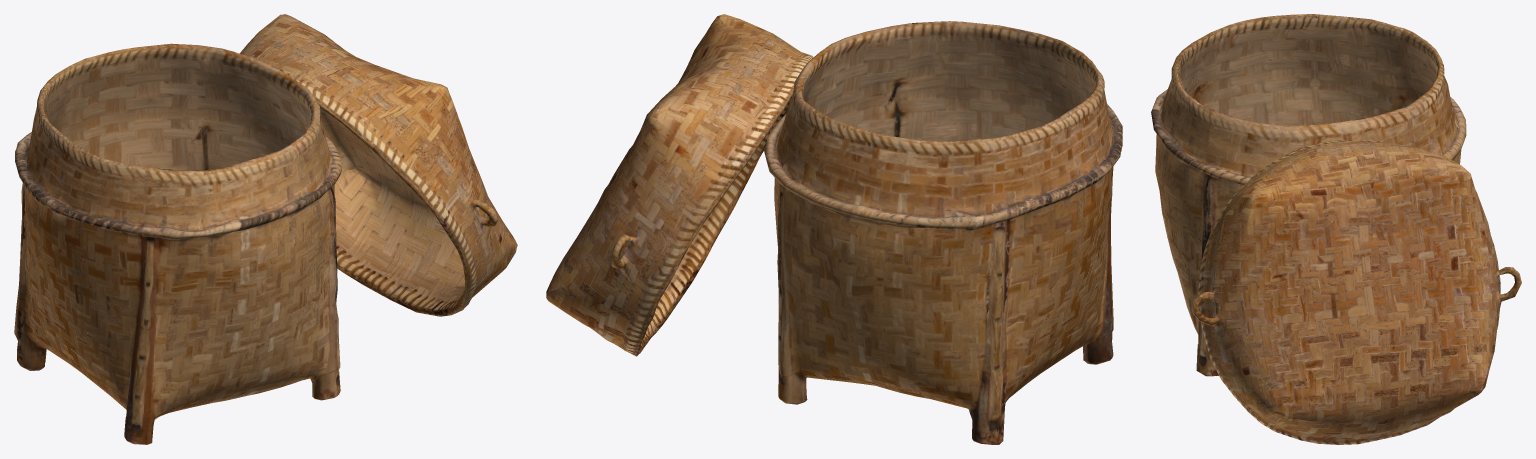
The model's file is cofo.glb.
3 renders of one model, left to right at view 1: azimuth 30°, elevation 25°; view 2: azimuth 150°, elevation 25°; view 3: azimuth 270°, elevation 25°, orthographic. The views are drawn at different scales.
Parts seen in each view (by area): view 1: cofo; view 2: cofo; view 3: cofo.
Boxes of the visible parts, x1,y1,x2,y2 form: cofo: [14, 14, 517, 444]; cofo: [546, 14, 1122, 444]; cofo: [1151, 14, 1521, 444].
Bounding box in the file's own units: 0.4504 × 0.2606 × 0.3309.
Materials: 1 (1 with a texture image).
